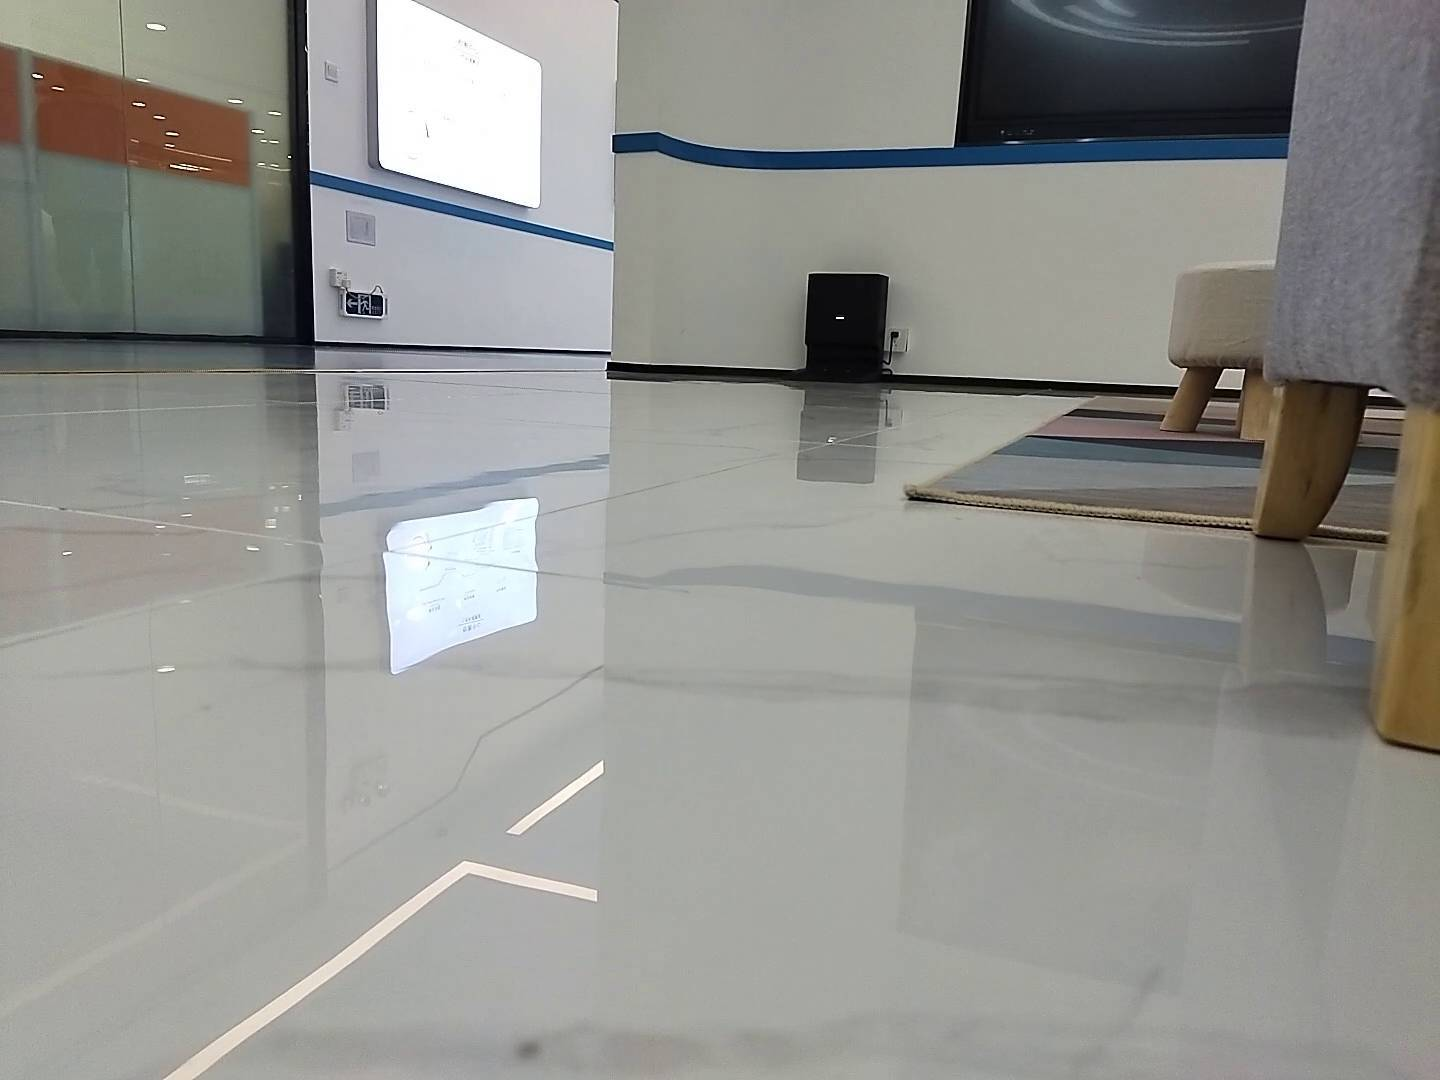dust collecting barrel: (781, 275, 890, 383)
